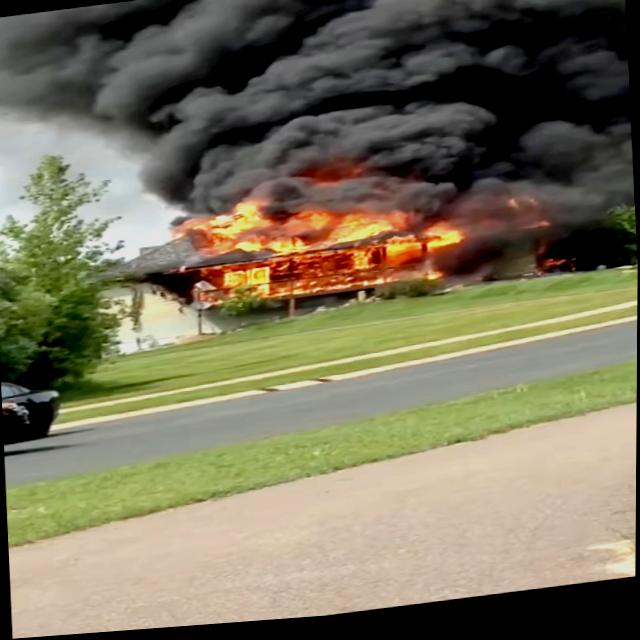helmet: (165, 162, 472, 325)
no_helmet: (94, 0, 634, 228)
